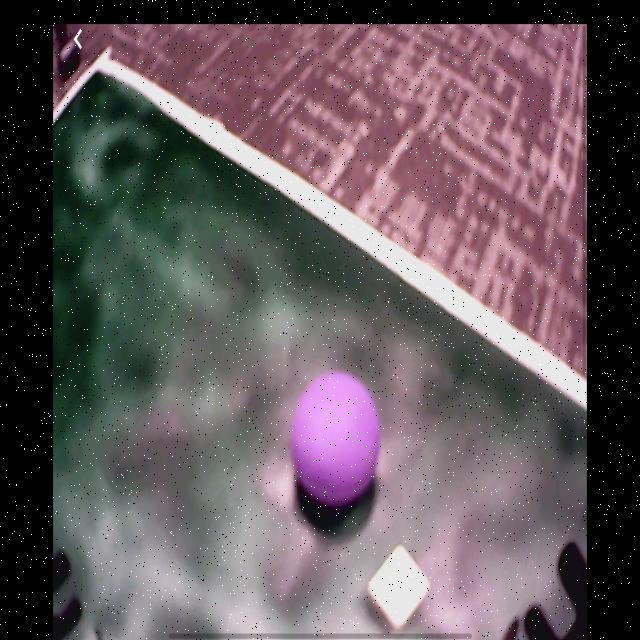ball: (290, 371, 380, 509)
